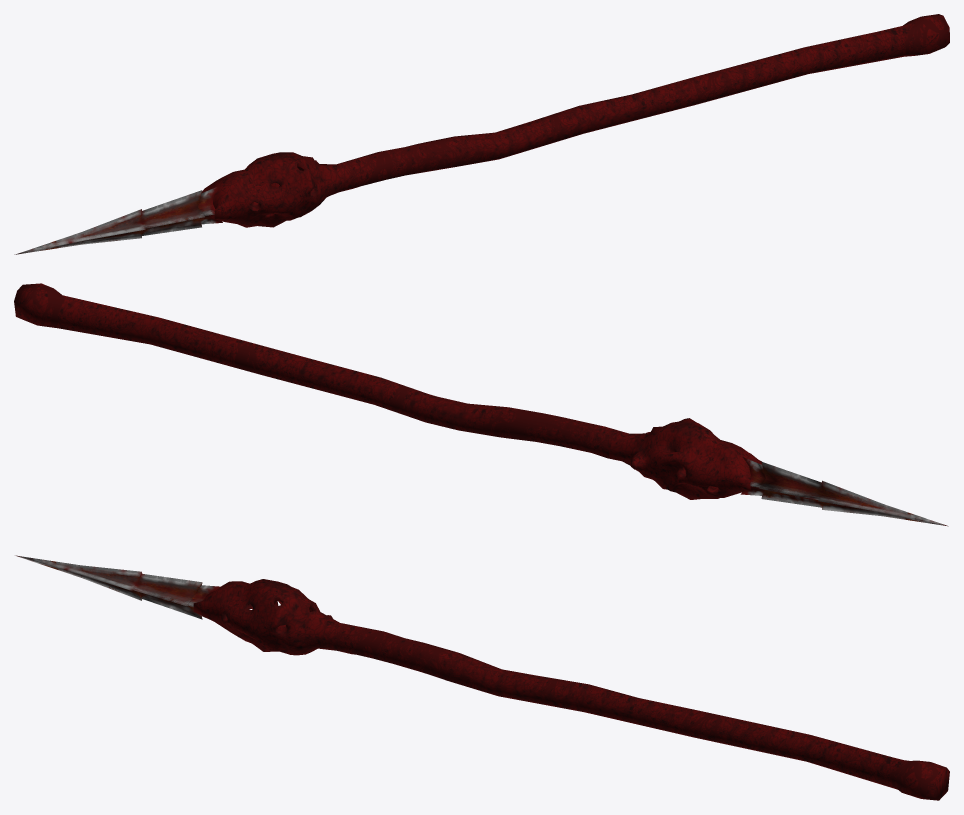
Rendered from SpearLowWeapon.fbx.
The picture shows the model from 3 angles, top to bottom: view 1: azimuth 30°, elevation 25°; view 2: azimuth 150°, elevation 25°; view 3: azimuth 330°, elevation 25°; orthographic projection.
Visible parts, largest first — view 1: SpearBaseLow; view 2: SpearBaseLow; view 3: SpearBaseLow.
Boxes of the visible parts, x1,y1,x2,y2 form: SpearBaseLow: (14, 14, 949, 254); SpearBaseLow: (14, 283, 948, 526); SpearBaseLow: (15, 555, 949, 800).
Bounding box in the file's own units: 1059 × 76.59 × 70.22.
